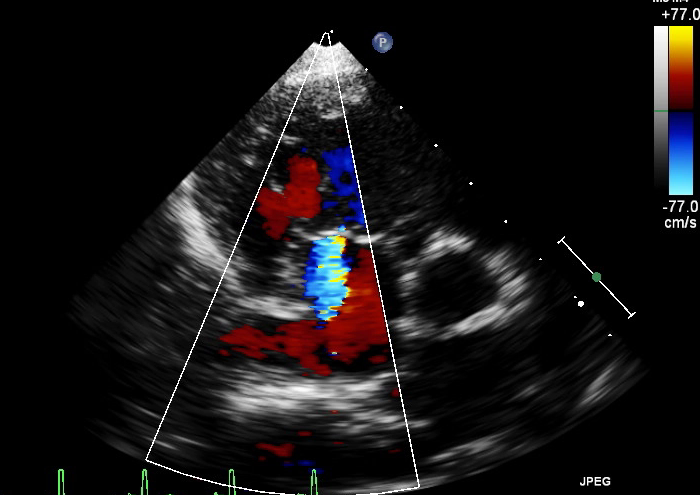TR: (290, 226, 370, 301)
